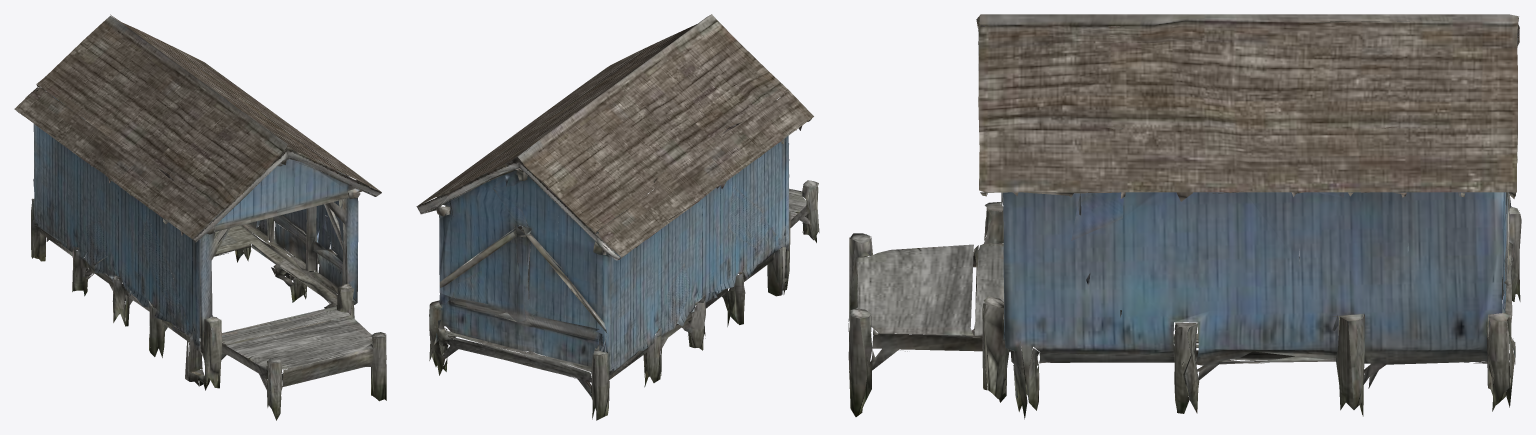
Rendered from kueste_bootshaus.glb.
The picture shows the model from 3 angles, left to right: view 1: azimuth 30°, elevation 25°; view 2: azimuth 150°, elevation 25°; view 3: azimuth 270°, elevation 25°; orthographic projection. The views are drawn at different scales.
Visible parts, largest first — view 1: Prop; view 2: Prop; view 3: Prop.
Part boxes in pixels (x1,y1,x2,y2): Prop: (14, 14, 386, 420); Prop: (416, 14, 819, 420); Prop: (848, 14, 1521, 419).
Bounding box in the file's own units: 0.8358 × 1 × 1.69.
Materials: 1 (1 with a texture image).
